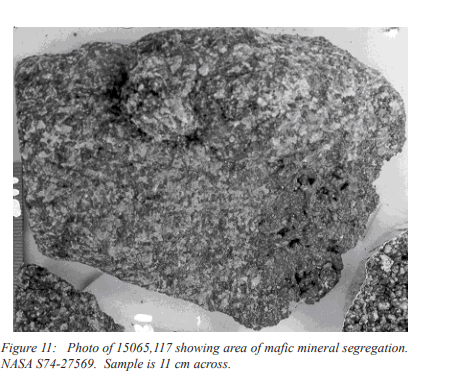Basalt: (17, 51, 334, 296), (48, 63, 375, 278)
